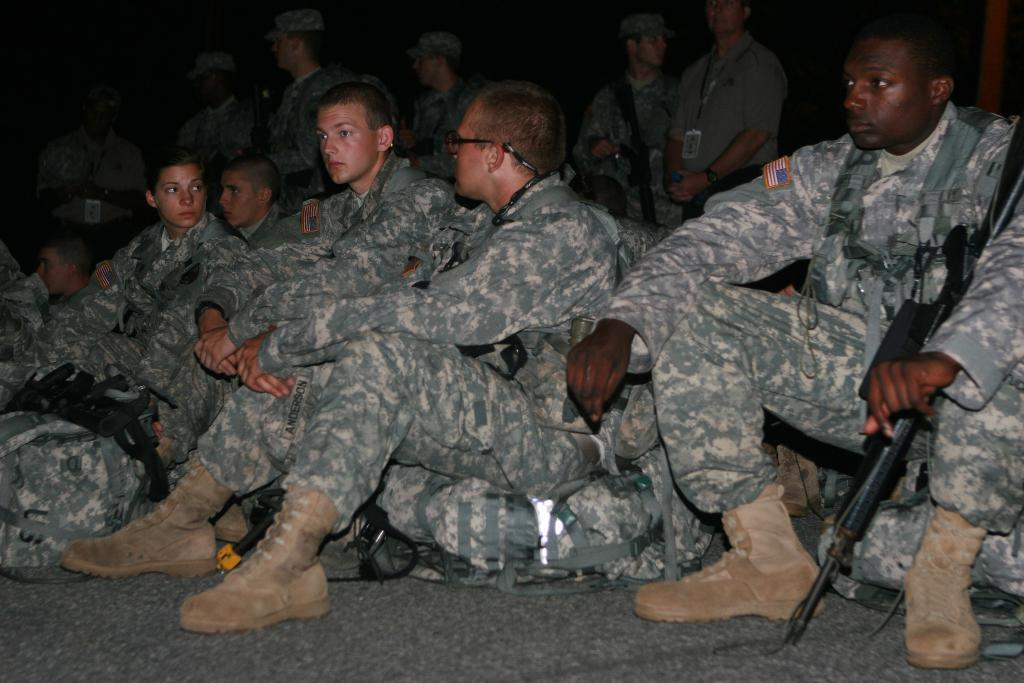Rifle: (787, 115, 1023, 641)
